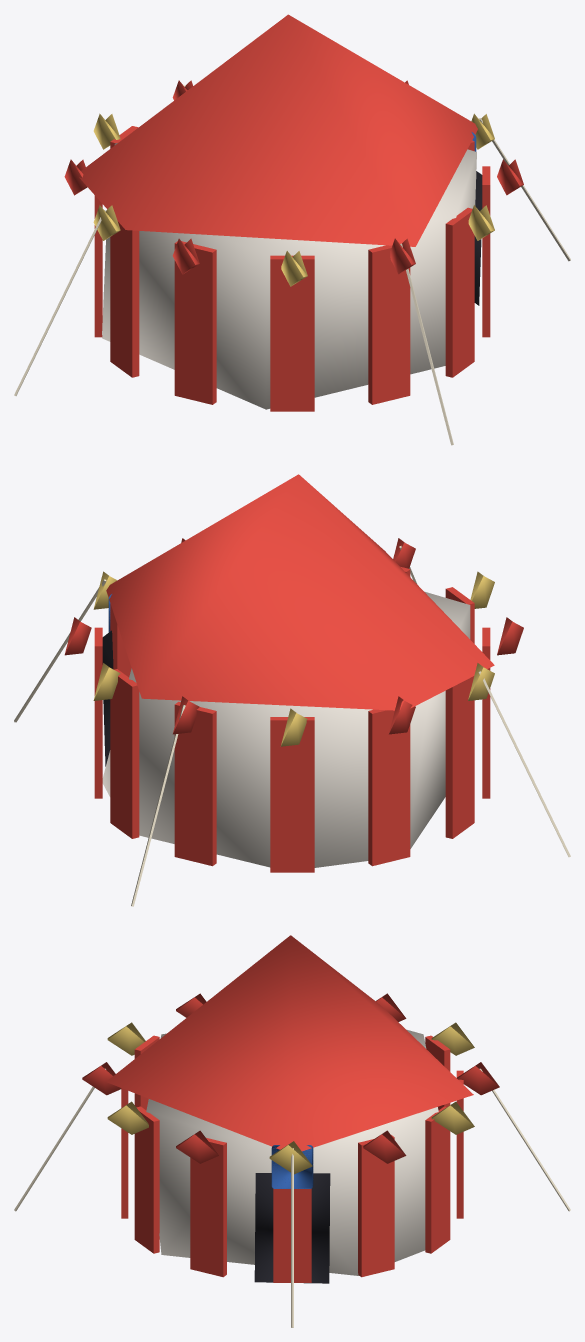
Rendered from pavilion.glb.
The picture shows the model from 3 angles, top to bottom: view 1: azimuth 30°, elevation 25°; view 2: azimuth 150°, elevation 25°; view 3: azimuth 270°, elevation 25°; orthographic projection. The views are drawn at different scales.
Parts seen in each view (by area): view 1: pavilion; view 2: pavilion; view 3: pavilion.
Boxes of the visible parts, <box> form: pavilion: <box>14,14,570,445</box>; pavilion: <box>14,474,570,906</box>; pavilion: <box>14,935,570,1327</box>.
Bounding box in the file's own units: 8.03 × 4.4 × 8.03.
Materials: 1 (1 with a texture image).
